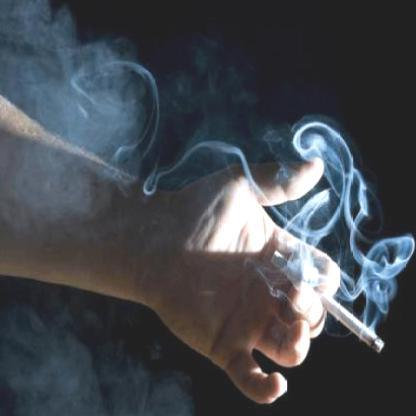cigarette: (310, 281, 388, 352)
smoke: (0, 0, 144, 157), (297, 126, 368, 247), (16, 324, 109, 416), (361, 223, 413, 332)
